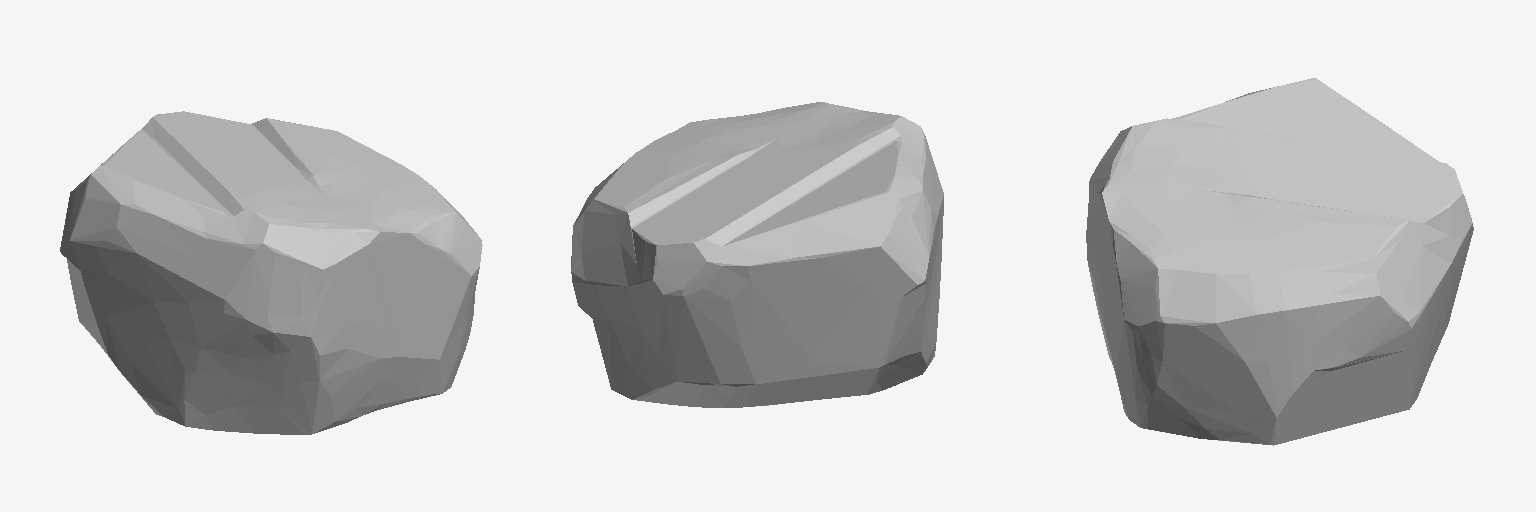
File: sm_rock5.OBJ
The picture shows the model from 3 angles: view 1: azimuth 30°, elevation 25°; view 2: azimuth 150°, elevation 25°; view 3: azimuth 270°, elevation 25°; orthographic projection.
Parts seen in each view (by area): view 1: ZBrushPolyMesh3D; view 2: ZBrushPolyMesh3D; view 3: ZBrushPolyMesh3D.
Part boxes in pixels (left/top/right/bottom): ZBrushPolyMesh3D: left=60, top=111, right=482, bottom=434; ZBrushPolyMesh3D: left=571, top=102, right=943, bottom=407; ZBrushPolyMesh3D: left=1086, top=78, right=1473, bottom=445.
Bounding box in the file's own units: 2.29 × 1.38 × 2.19.